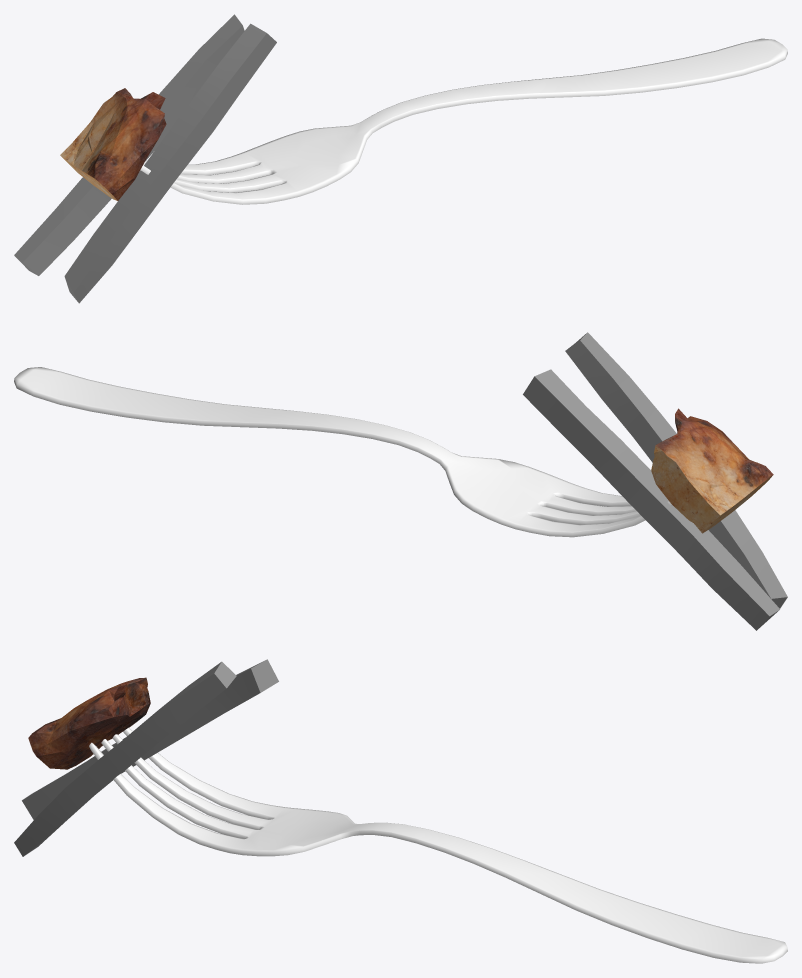
File: Fork_FriesSteak.fbx
3 views of the same model, one above another, from view 1: azimuth 30°, elevation 25°; view 2: azimuth 150°, elevation 25°; view 3: azimuth 330°, elevation 25° (orthographic). The views are drawn at different scales.
Visible parts, largest first — view 1: Fork_FriesSteak; view 2: Fork_FriesSteak; view 3: Fork_FriesSteak.
Boxes of the visible parts, x1=… form: Fork_FriesSteak: x1=14, y1=14, x2=787, y2=303; Fork_FriesSteak: x1=14, y1=332, x2=787, y2=630; Fork_FriesSteak: x1=14, y1=659, x2=787, y2=963.
Bounding box in the file's own units: 21.4 × 6.19 × 2.8.
